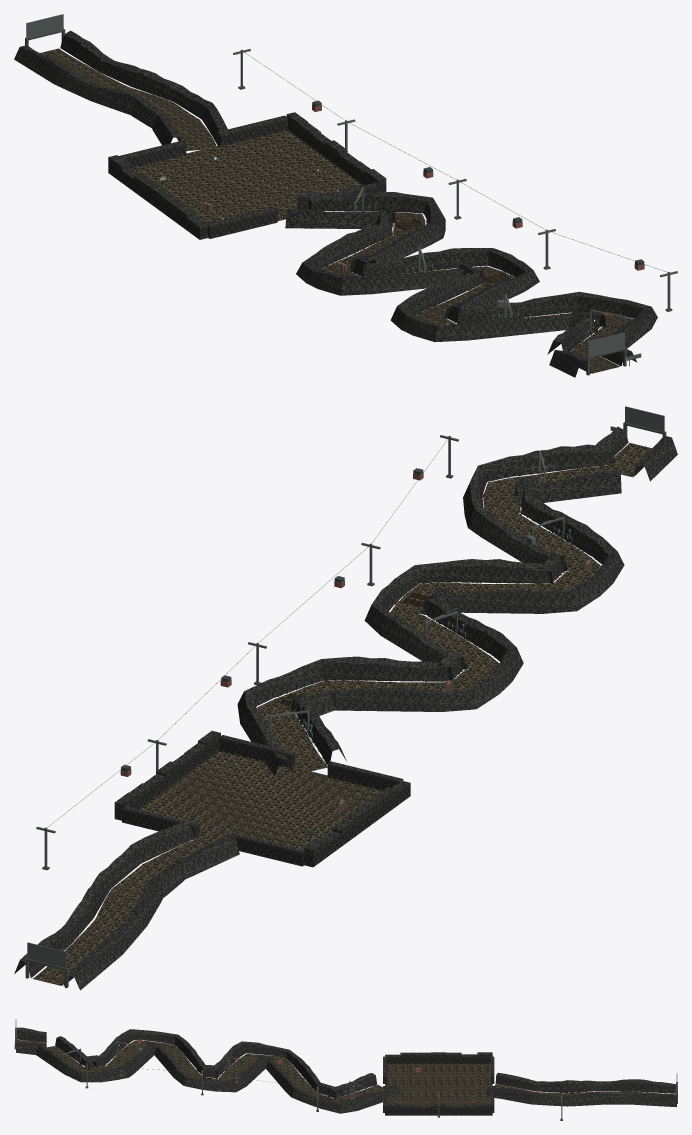
The model's file is PL_Route_B.fbx.
The picture shows the model from 3 angles, top to bottom: view 1: azimuth 30°, elevation 25°; view 2: azimuth 150°, elevation 25°; view 3: azimuth 270°, elevation 25°; orthographic projection. The views are drawn at different scales.
Parts seen in each view (by area): view 1: PL_Bank_B_1, PL_Bank_B_-1, PL_B_CombatSpace, PL_Bank_ExitB_-1, PL_Bank_ExitB_1, PL_Travel_B, PL_Travel_ExitB, PL_B_ClearingEndRim, PL_B_ClearingEndRim.003, PL_B_ClearingEndRim.002, PL_Bank_LinkB_1, PL_B_Front_OpaqueLeaf (+2 smaller); view 2: PL_Bank_B_-1, PL_Bank_B_1, PL_B_CombatSpace, PL_Travel_B, PL_Bank_ExitB_1, PL_Bank_ExitB_-1, PL_Travel_ExitB, PL_B_ClearingEndRim.002, PL_B_ClearingEndRim, PL_B_ClearingEndRim.001, PL_B_ClearingEndRim.003, PL_Bank_LinkB_1; view 3: PL_Bank_B_-1, PL_Bank_B_1, PL_B_CombatSpace, PL_Travel_B, PL_Bank_ExitB_-1, PL_Bank_ExitB_1, PL_Travel_ExitB, PL_Bank_LinkB_1, PL_Bank_LinkB_-1, PL_B_ClearingRockRim.007, PSX_EdgeUndergrowth_B, PL_B_ClearingRockRim.010 (+6 smaller).
Part boxes in pixels (<box>): PL_Bank_B_1: <box>285,208,606,354</box>; PL_Bank_B_-1: <box>297,189,657,357</box>; PL_B_CombatSpace: <box>131,130,363,223</box>; PL_Bank_ExitB_-1: <box>60,30,234,147</box>; PL_Bank_ExitB_1: <box>14,45,181,145</box>; PL_Travel_B: <box>321,212,634,357</box>; PL_Travel_ExitB: <box>40,48,217,150</box>; PL_B_ClearingEndRim: <box>207,207,277,238</box>; PL_B_ClearingEndRim.003: <box>217,115,287,146</box>; PL_B_ClearingEndRim.002: <box>119,140,186,168</box>; PL_Bank_LinkB_1: <box>549,350,590,377</box>; PL_B_Front_OpaqueLeaf: <box>587,332,624,356</box>; PL_Bank_B_-1: <box>237,443,614,775</box>; PL_Bank_B_1: <box>290,470,624,763</box>; PL_B_CombatSpace: <box>139,750,382,849</box>; PL_Travel_B: <box>257,464,616,773</box>; PL_Bank_ExitB_1: <box>63,834,239,990</box>; PL_Bank_ExitB_-1: <box>14,819,200,978</box>; PL_Travel_ExitB: <box>33,837,212,985</box>; PL_B_ClearingEndRim.002: <box>231,832,304,866</box>; PL_B_ClearingEndRim: <box>327,761,403,790</box>; PL_B_ClearingEndRim.001: <box>219,735,294,767</box>; PL_B_ClearingEndRim.003: <box>122,806,197,839</box>; PL_Bank_LinkB_1: <box>633,436,677,481</box>; PL_Bank_B_-1: <box>33,1041,400,1113</box>; PL_Bank_B_1: <box>55,1029,377,1099</box>; PL_B_CombatSpace: <box>385,1064,492,1105</box>; PL_Travel_B: <box>46,1040,382,1102</box>; PL_Bank_ExitB_-1: <box>486,1087,676,1107</box>; PL_Bank_ExitB_1: <box>495,1073,675,1093</box>; PL_Travel_ExitB: <box>494,1084,675,1096</box>; PL_Bank_LinkB_1: <box>17,1027,46,1042</box>; PL_Bank_LinkB_-1: <box>16,1042,46,1054</box>; PL_B_ClearingRockRim.007: <box>385,1103,400,1115</box>; PSX_EdgeUndergrowth_B: <box>55,1040,375,1101</box>; PL_B_ClearingRockRim.010: <box>431,1103,446,1115</box>.
Size of the model in its own units: 7952 by 4246 by 34553.
17 materials, 7 textured.
